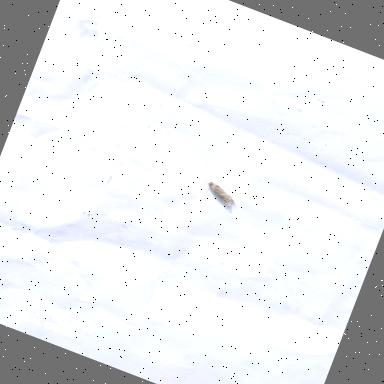pbw: (198, 178, 242, 210)
